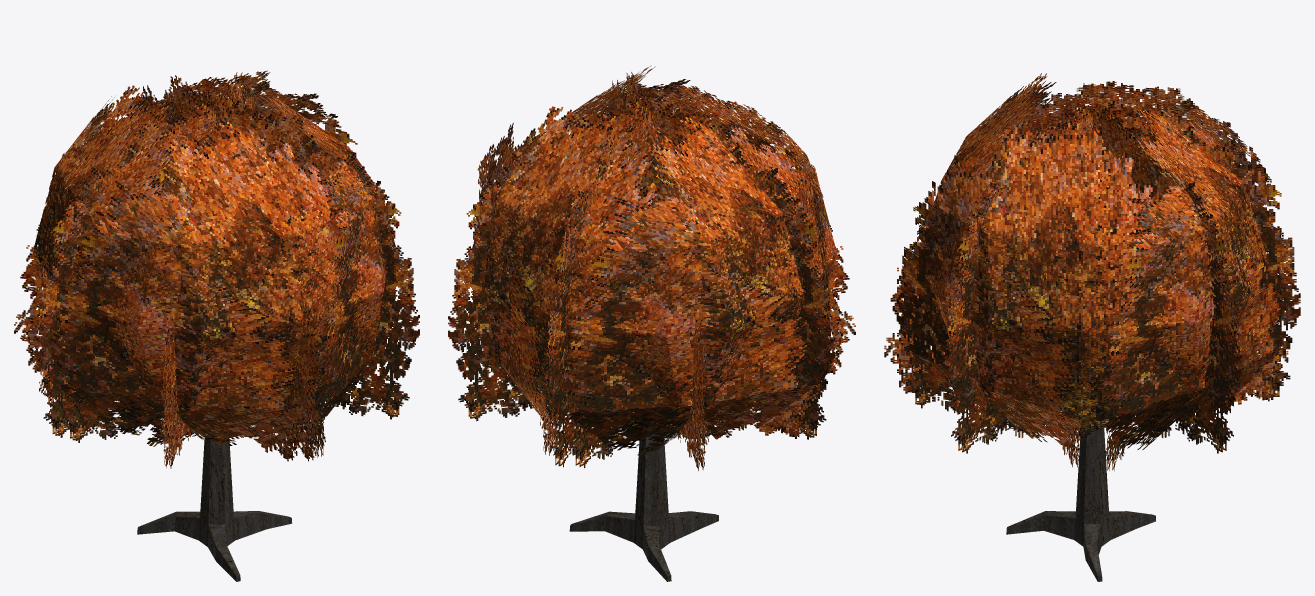
File: tree03_fall.glb
The picture shows the model from 3 angles, left to right: view 1: azimuth 30°, elevation 25°; view 2: azimuth 150°, elevation 25°; view 3: azimuth 270°, elevation 25°; orthographic projection.
Visible parts, largest first — view 1: tree03; view 2: tree03; view 3: tree03.
Boxes of the visible parts, x1,y1,x2,y2 form: tree03: [14, 70, 419, 581]; tree03: [448, 65, 855, 581]; tree03: [884, 73, 1300, 581].
Size of the model in its own units: 6.72 by 7.87 by 6.72.
1 material, 1 textured.
